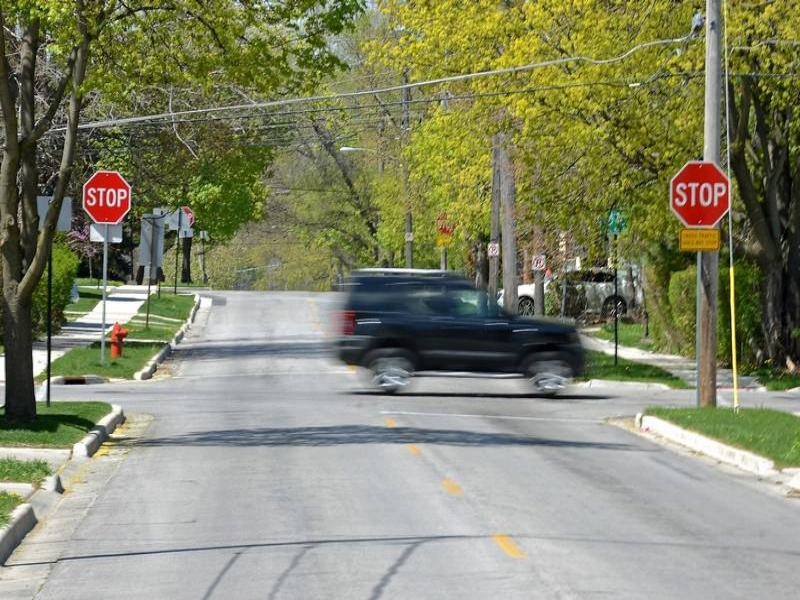stop sign: (666, 158, 733, 230), (80, 168, 133, 227), (432, 209, 464, 237), (170, 203, 194, 232)
